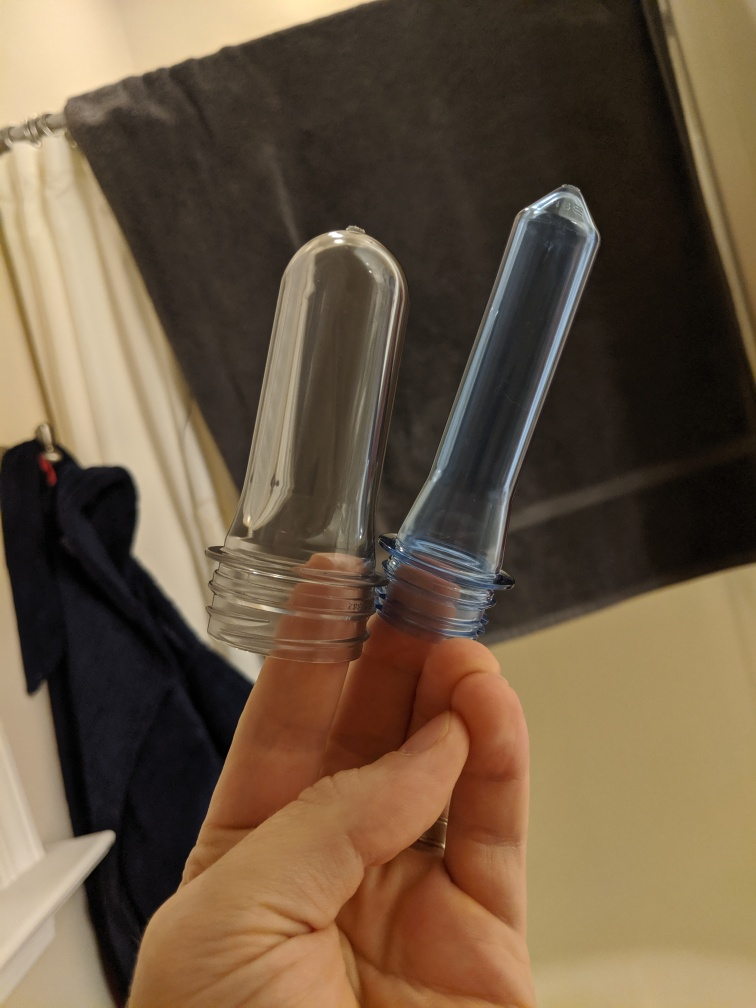preform: (367, 177, 620, 651), (194, 219, 411, 673)
